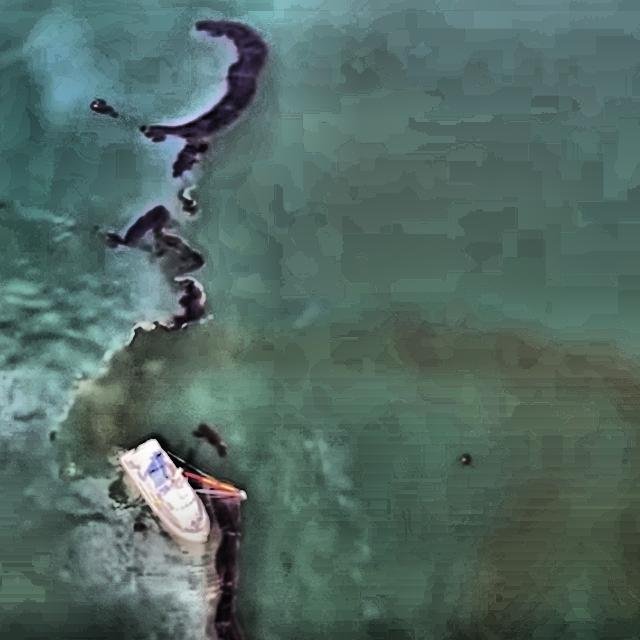truecolor: (145, 20, 267, 176), (166, 449, 246, 640), (105, 205, 206, 338), (195, 425, 228, 458), (91, 100, 117, 116)
